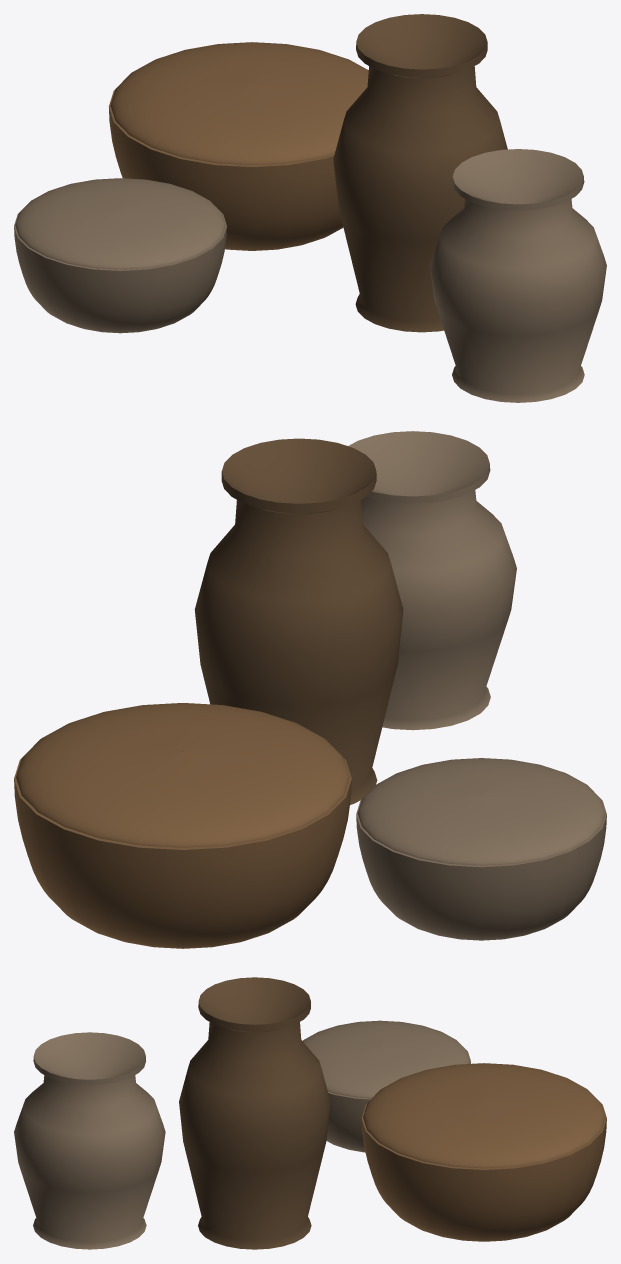
The model's file is jarrones.fbx.
The picture shows the model from 3 angles, top to bottom: view 1: azimuth 30°, elevation 25°; view 2: azimuth 150°, elevation 25°; view 3: azimuth 270°, elevation 25°; orthographic projection. The views are drawn at different scales.
Visible parts, largest first — view 1: Atr_3, Atr_2, Atr, Atr_4; view 2: Atr_3, Atr_2, Atr_4, Atr; view 3: Atr_3, Atr_2, Atr, Atr_4.
Part boxes in pixels (<box>): Atr_3: <box>108,42,368,250</box>; Atr_2: <box>333,14,507,332</box>; Atr: <box>429,149,606,402</box>; Atr_4: <box>14,178,226,333</box>; Atr_3: <box>14,703,351,948</box>; Atr_2: <box>194,438,403,804</box>; Atr_4: <box>356,758,606,940</box>; Atr: <box>348,431,516,730</box>; Atr_3: <box>361,1063,606,1241</box>; Atr_2: <box>179,977,330,1249</box>; Atr: <box>14,1032,165,1249</box>; Atr_4: <box>302,1020,470,1152</box>.
Size of the model in its own units: 142 by 87.4 by 209.
3 materials, 3 textured.
